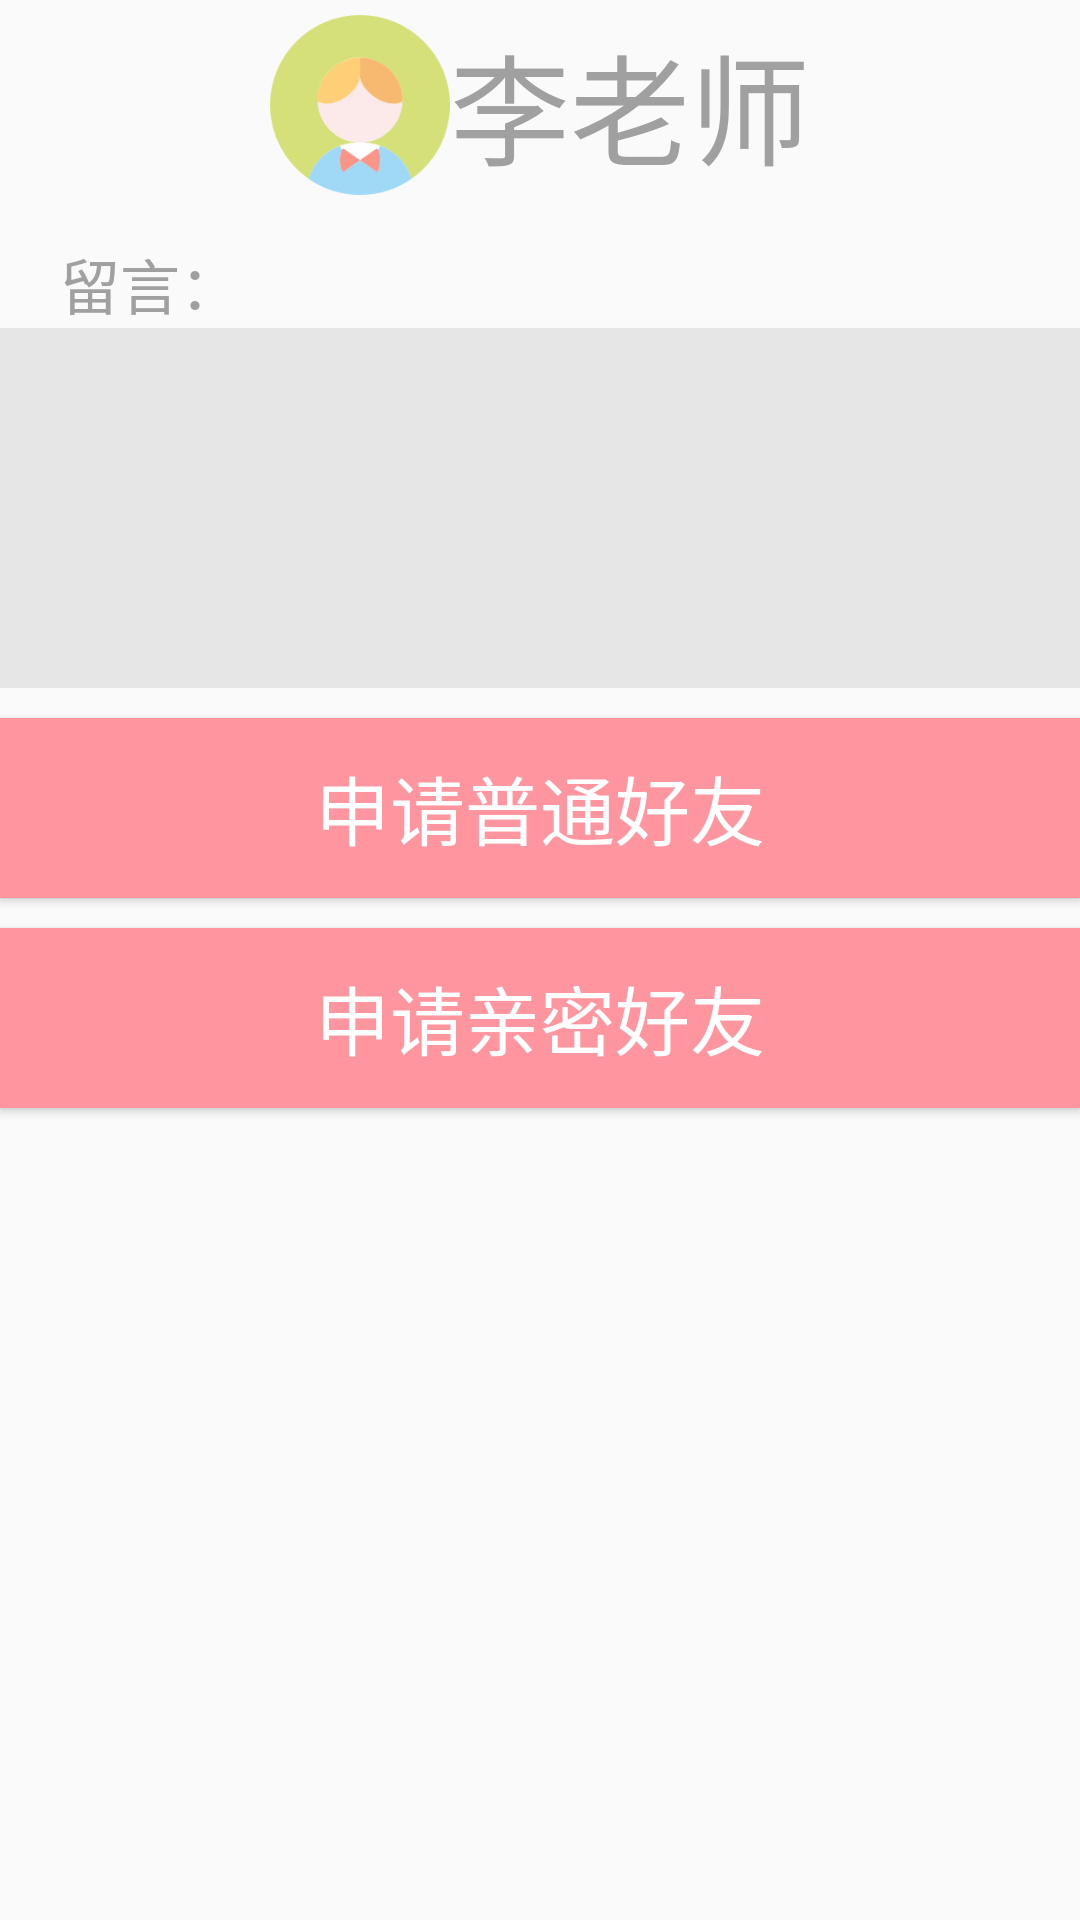

Where to tap for icons on this 1080w x 1920h app screen, as [x,y]:
head: [360,105]
